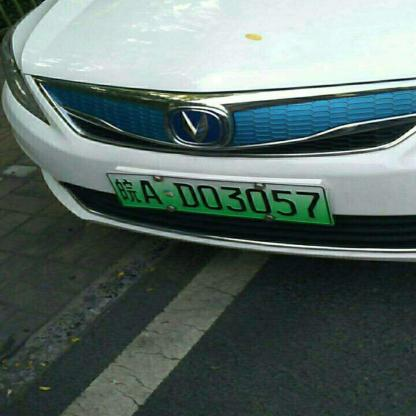lp: (109, 171, 328, 222)
